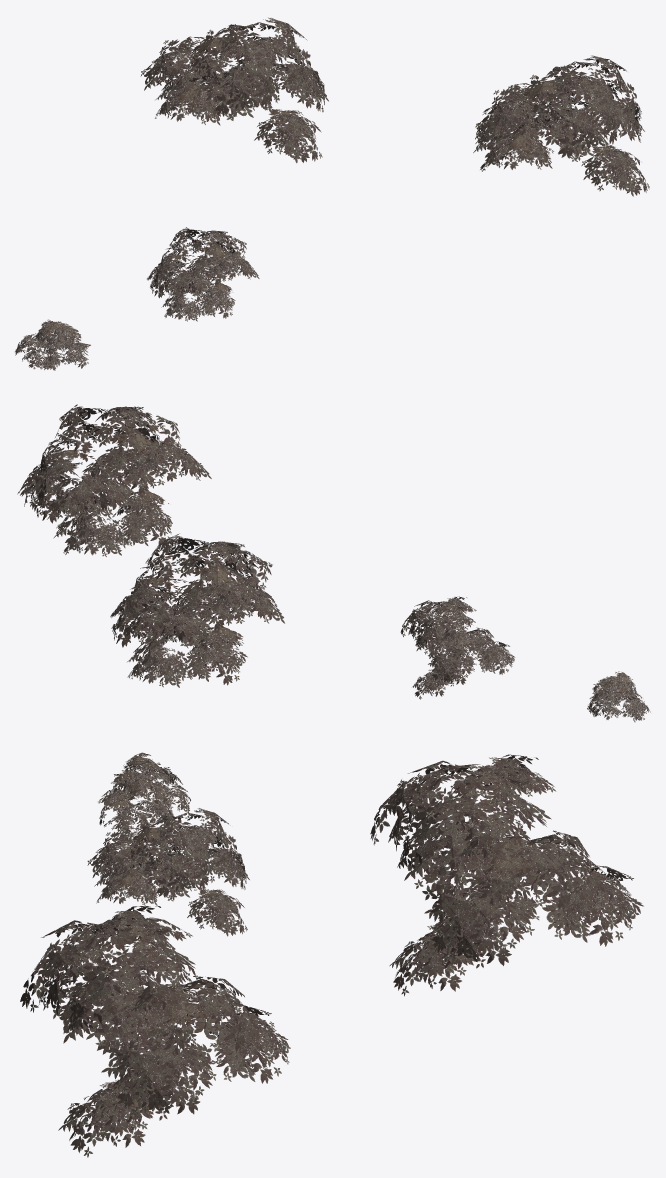
The model's file is Area12_32.fbx.
3 views of the same model, one above another, from view 1: azimuth 30°, elevation 25°; view 2: azimuth 150°, elevation 25°; view 3: azimuth 270°, elevation 25° (orthographic). The views are drawn at different scales.
Visible parts, largest first — view 1: Area12_32; view 2: Area12_32; view 3: Area12_32.
Part boxes in pixels (x1,y1,x2,y2): Area12_32: [15, 17, 649, 370]; Area12_32: [17, 404, 650, 722]; Area12_32: [20, 752, 643, 1157].
Bounding box in the file's own units: 3950 × 1111 × 2399.
